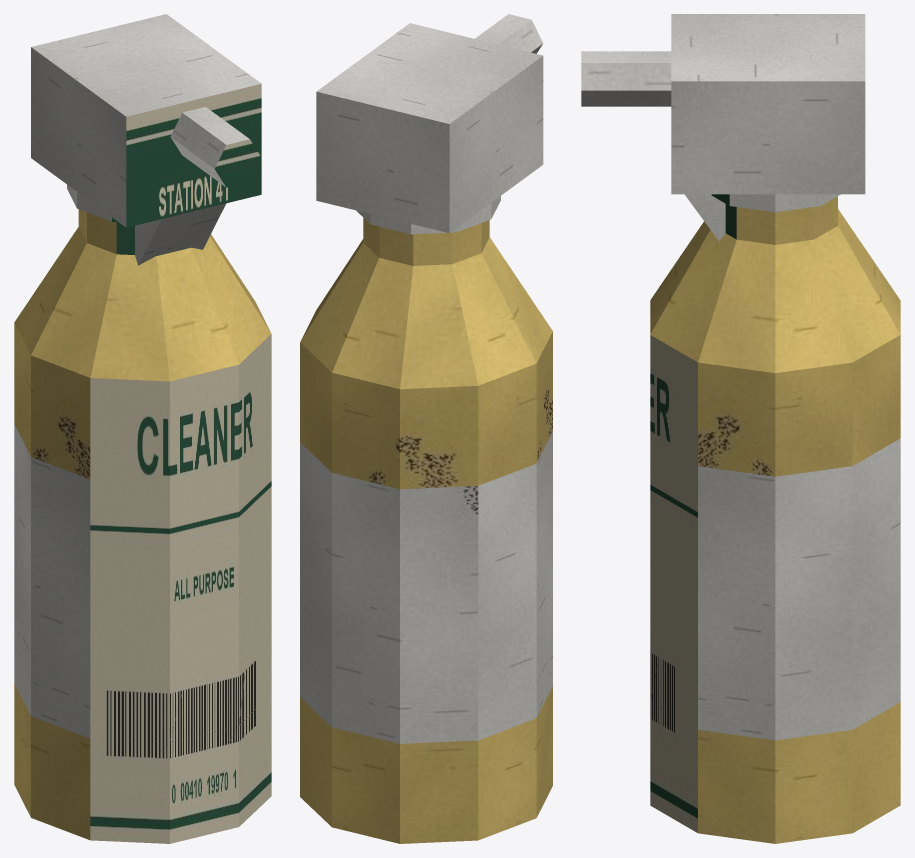
The model's file is cleaner.glb.
The picture shows the model from 3 angles, left to right: view 1: azimuth 30°, elevation 25°; view 2: azimuth 150°, elevation 25°; view 3: azimuth 270°, elevation 25°; orthographic projection. The views are drawn at different scales.
Visible parts, largest first — view 1: NC_cleaner; view 2: NC_cleaner; view 3: NC_cleaner.
Part boxes in pixels (<box>): NC_cleaner: <box>14,14,271,843</box>; NC_cleaner: <box>300,14,552,843</box>; NC_cleaner: <box>581,14,900,843</box>.
Size of the model in its own units: 0.076 by 0.236 by 0.0921.
3 materials, 3 textured.
